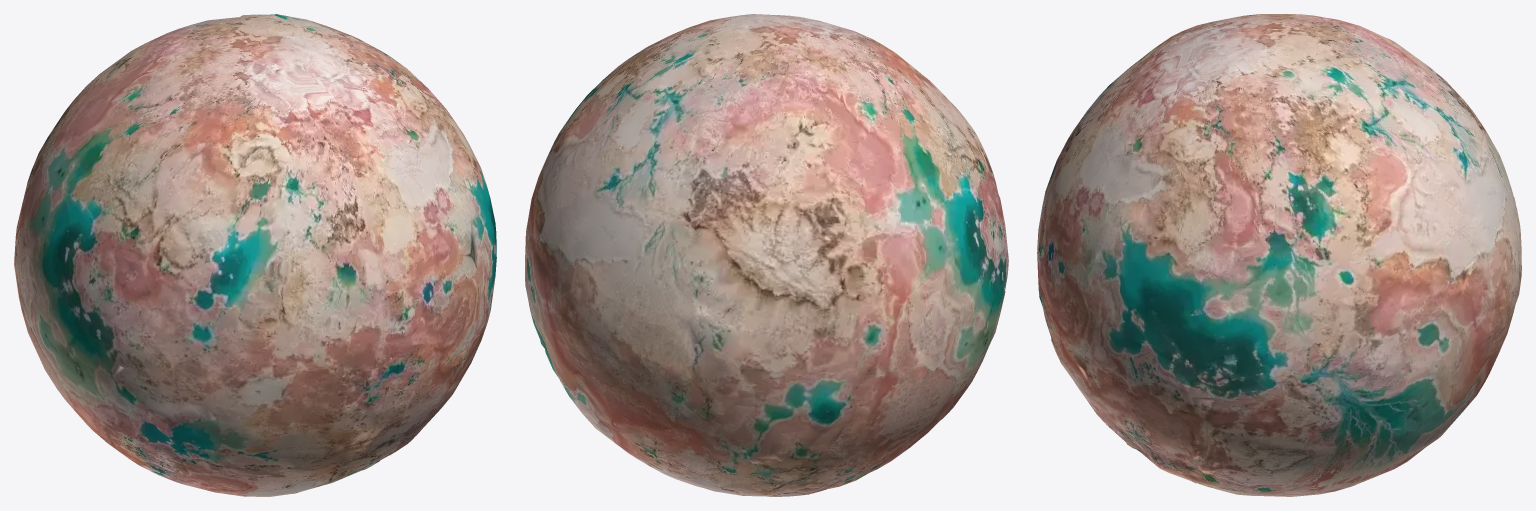
File: planet_15.glb
3 views of the same model, side by side, from view 1: azimuth 30°, elevation 25°; view 2: azimuth 150°, elevation 25°; view 3: azimuth 270°, elevation 25° (orthographic).
Visible parts, largest first — view 1: Mesh_0.001; view 2: Mesh_0.001; view 3: Mesh_0.001.
Boxes of the visible parts, x1=… form: Mesh_0.001: x1=14, y1=14, x2=496, y2=496; Mesh_0.001: x1=525, y1=14, x2=1008, y2=496; Mesh_0.001: x1=1037, y1=14, x2=1521, y2=496.
Size of the model in its own units: 1.9 by 1.9 by 1.9.
Materials: 1 (1 with a texture image).
